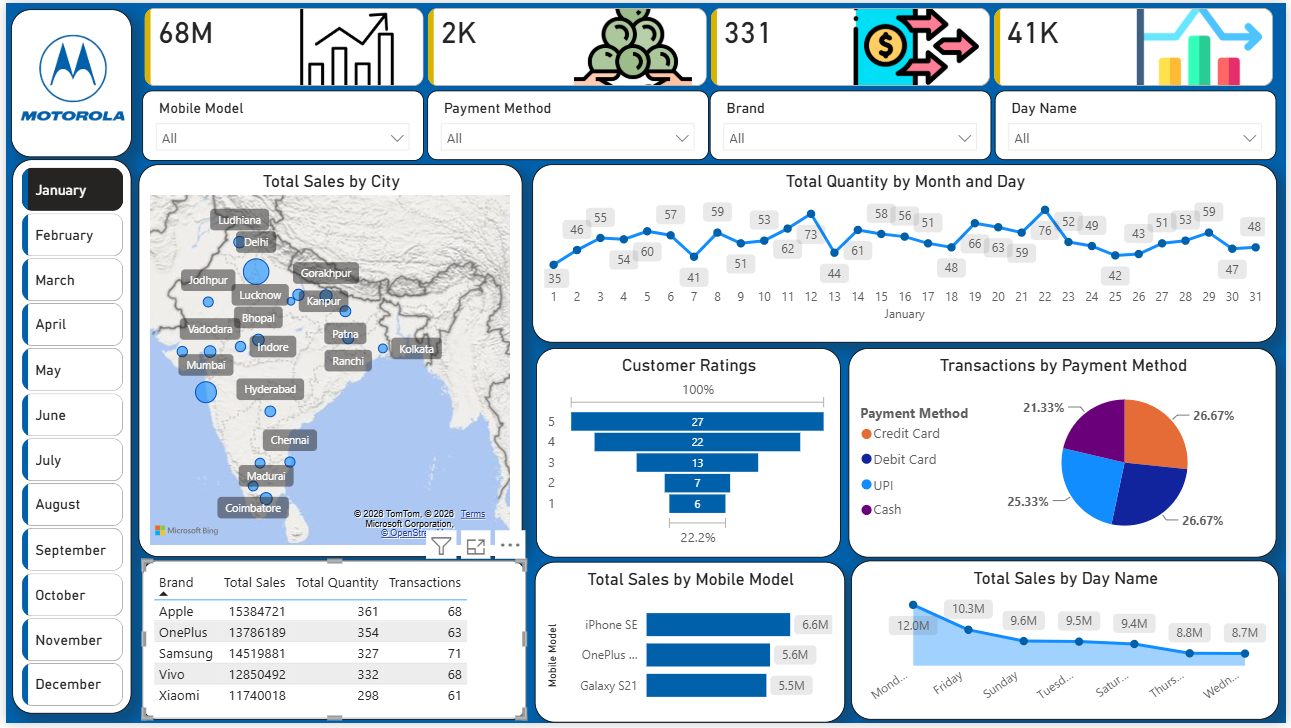

This screenshot's page, from the dashboard's own definition file:
{"tool":"powerbi","page":{"name":"Page 1","canvas":[1280,720],"ordinal":0},"visuals":[{"type":"shape","box":[5.5,6.9,120.8,148.2],"z":0},{"type":"image","box":[9.6,16.5,113.9,116.6],"z":1000},{"type":"shape","box":[6.9,156.4,119.4,554.4],"z":2000},{"type":"advancedSlicerVisual","fields":{"Values":["Sales_Data.Date.Variation.Date Hierarchy.Month"]},"box":[11,160.5,111.1,548.9],"z":3000},{"type":"cardVisual","fields":{"Data":["Sales_Data.Total Sales","Sales_Data.Total Quantity","Sales_Data.Transactions","Sales_Data.Average"]},"box":[134,5.6,1140.1,83.7],"z":4000},{"type":"map","fields":{"Category":["Sales_Data.City"],"Size":["Sales_Data.Total Sales"]},"box":[132.9,160.8,384.1,393.1],"z":5000},{"type":"lineChart","fields":{"Y":["Sales_Data.Total Quantity"],"Category":["Sales_Data.Date.Variation.Date Hierarchy.Month","Sales_Data.Date.Variation.Date Hierarchy.Day"]},"box":[525.9,160.8,744.8,178.7],"z":6000},{"type":"clusteredBarChart","fields":{"Category":["Sales_Data.Mobile Model"],"Y":["Sales_Data.Total Sales"]},"box":[528.3,558.5,310.1,160.5],"z":7000},{"type":"pieChart","fields":{"Category":["Sales_Data.Payment Method"],"Y":["Sales_Data.Transactions"]},"box":[842.5,344.4,428.1,209.9],"z":8000},{"type":"funnel","title":"Customer Ratings","fields":{"Category":["Sales_Data.Customer Ratings"],"Y":["CountNonNull(Sales_Data.Customer Ratings)"]},"box":[529.7,344.4,304.6,209.9],"z":9000},{"type":"areaChart","fields":{"Category":["Sales_Data.Day Name"],"Y":["Sales_Data.Total Sales"]},"box":[845.3,557.1,428.1,159.2],"z":10000},{"type":"tableEx","fields":{"Values":["Sales_Data.Brand","Sales_Data.Total Sales","Sales_Data.Total Quantity","Sales_Data.Transactions"]},"box":[135.8,557.1,384.2,159.2],"z":11000},{"type":"slicer","fields":{"Values":["Sales_Data.Mobile Model"]},"box":[136.2,87.1,281.4,70.3],"z":12000},{"type":"slicer","fields":{"Values":["Sales_Data.Payment Method"]},"box":[421,87.1,281.4,69.2],"z":13000},{"type":"slicer","fields":{"Values":["Sales_Data.Brand"]},"box":[703.5,87.1,281.4,69.2],"z":14000},{"type":"slicer","fields":{"Values":["Sales_Data.Day Name"]},"box":[988.2,87.1,281.4,69.2],"z":15000}]}

Visuals, with their boxes in screenshot pixels (x1, y1, x2, y2), scaled from the page's 1280x720 canvas onto the 1291x728 screenshot:
shape: (6, 7, 127, 157)
image: (10, 17, 125, 135)
shape: (7, 158, 127, 719)
advancedSlicerVisual - Sales_Data.Date.Variation.Date Hierarchy.Month: (11, 162, 123, 717)
cardVisual - Sales_Data.Total Sales x Sales_Data.Total Quantity: (135, 6, 1285, 90)
map - Sales_Data.City x Sales_Data.Total Sales: (134, 163, 521, 560)
lineChart - Sales_Data.Total Quantity x Sales_Data.Date.Variation.Date Hierarchy.Month: (530, 163, 1282, 343)
clusteredBarChart - Sales_Data.Mobile Model x Sales_Data.Total Sales: (533, 565, 846, 727)
pieChart - Sales_Data.Payment Method x Sales_Data.Transactions: (850, 348, 1282, 560)
"Customer Ratings" funnel: (534, 348, 841, 560)
areaChart - Sales_Data.Day Name x Sales_Data.Total Sales: (853, 563, 1284, 724)
tableEx - Sales_Data.Brand x Sales_Data.Total Sales: (137, 563, 524, 724)
slicer - Sales_Data.Mobile Model: (137, 88, 421, 159)
slicer - Sales_Data.Payment Method: (425, 88, 708, 158)
slicer - Sales_Data.Brand: (710, 88, 993, 158)
slicer - Sales_Data.Day Name: (997, 88, 1281, 158)
